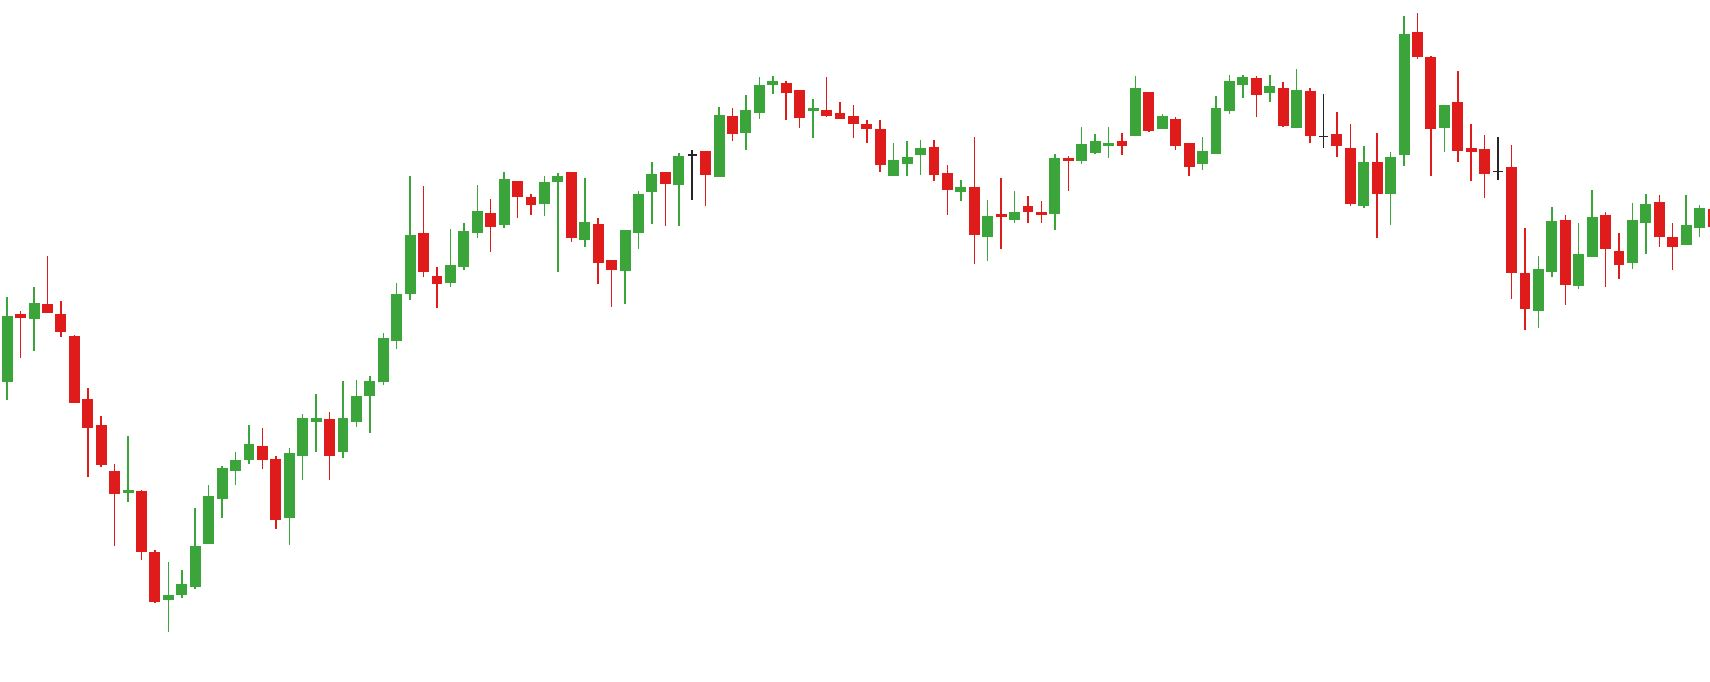buy: (215, 451, 296, 547)
sell: (1289, 12, 1438, 137)
